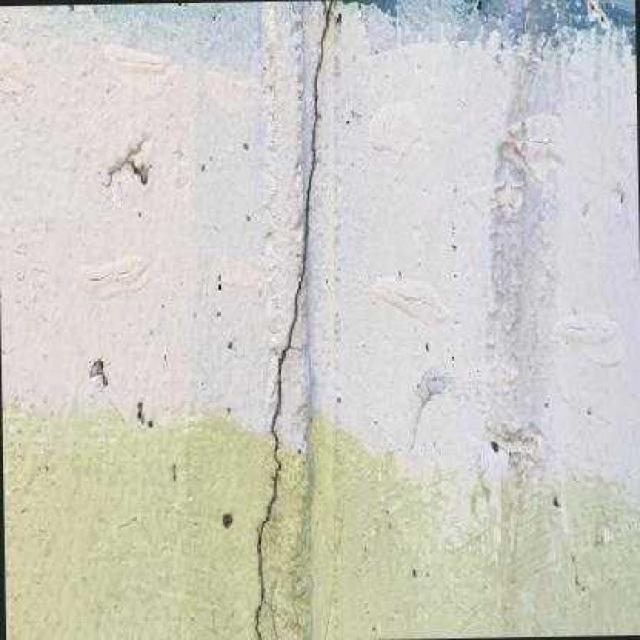D00: (252, 0, 334, 640)
